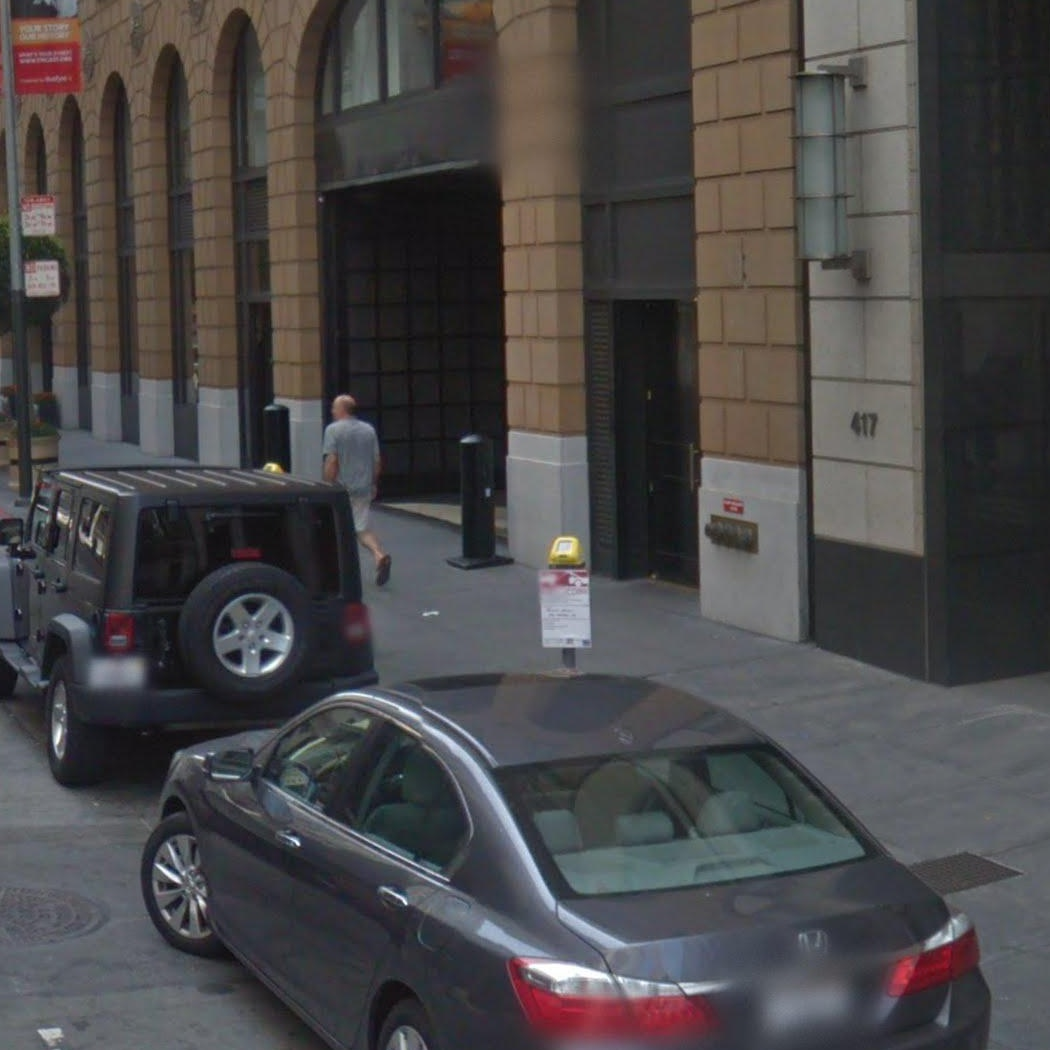No Parking: (20, 192, 59, 240), (21, 257, 63, 300)
